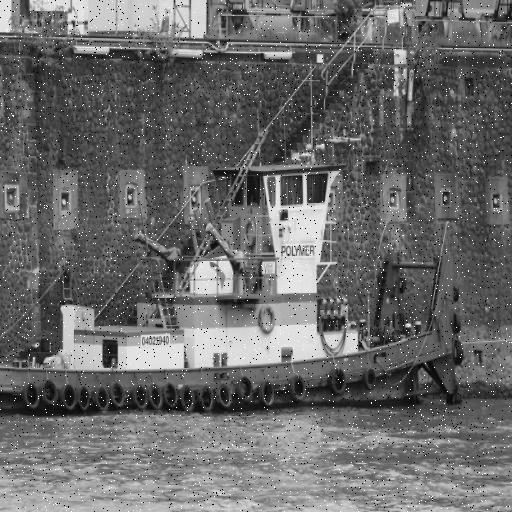tugboat: (1, 146, 472, 415)
